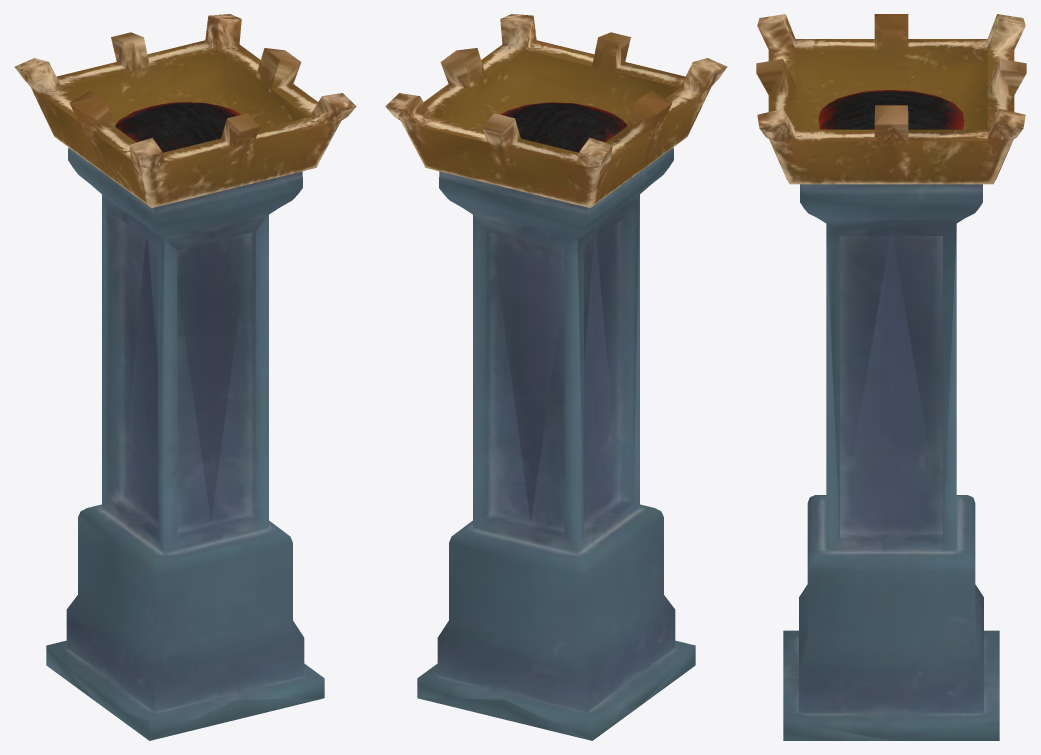
File: torch-pillar.glb
3 views of the same model, side by side, from view 1: azimuth 30°, elevation 25°; view 2: azimuth 150°, elevation 25°; view 3: azimuth 270°, elevation 25° (orthographic). The views are drawn at different scales.
Visible parts, largest first — view 1: torch-pillar; view 2: torch-pillar; view 3: torch-pillar.
Part boxes in pixels (bbox=[...]): torch-pillar: bbox=[14, 14, 356, 740]; torch-pillar: bbox=[385, 14, 727, 740]; torch-pillar: bbox=[756, 14, 1026, 740].
Size of the model in its own units: 1.68 by 4.5 by 1.73.
2 materials, 2 textured.
